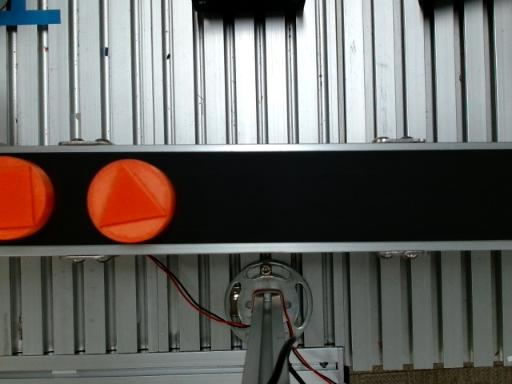Not_Square: (97, 161, 169, 229)
Orange_Waper: (87, 160, 175, 242), (0, 156, 54, 240)
